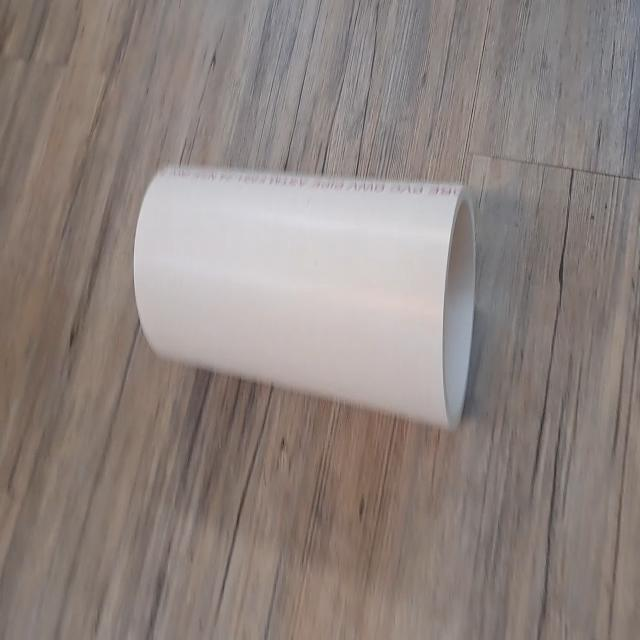CORAL: (126, 147, 481, 458)
